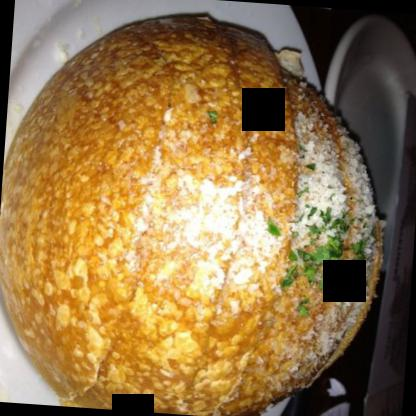toast bread: (0, 1, 390, 415)
